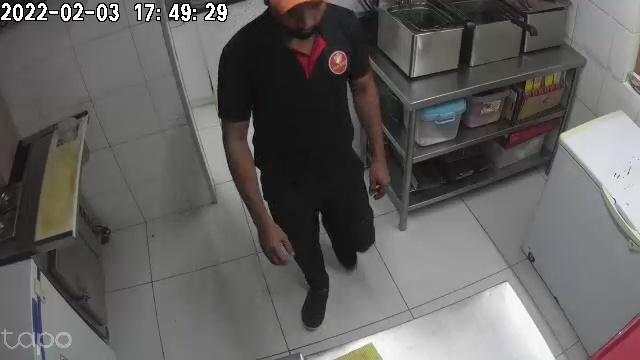no_gloves: (254, 210, 292, 263), (371, 151, 389, 200)
